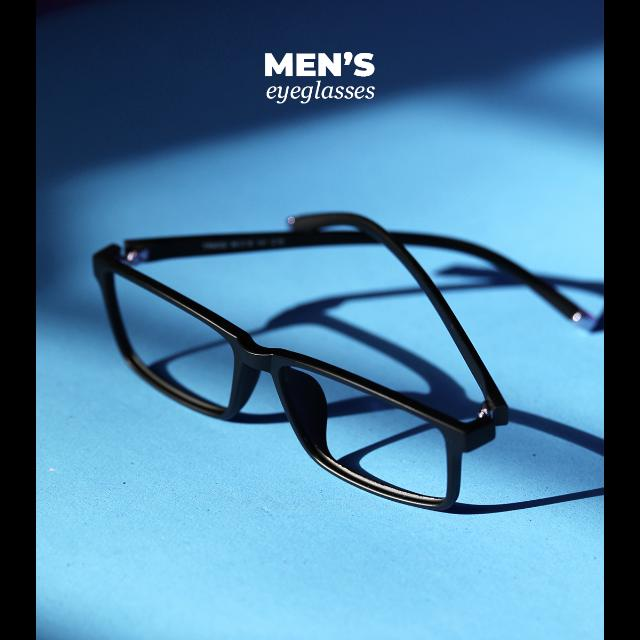glasses: (88, 197, 604, 519)
